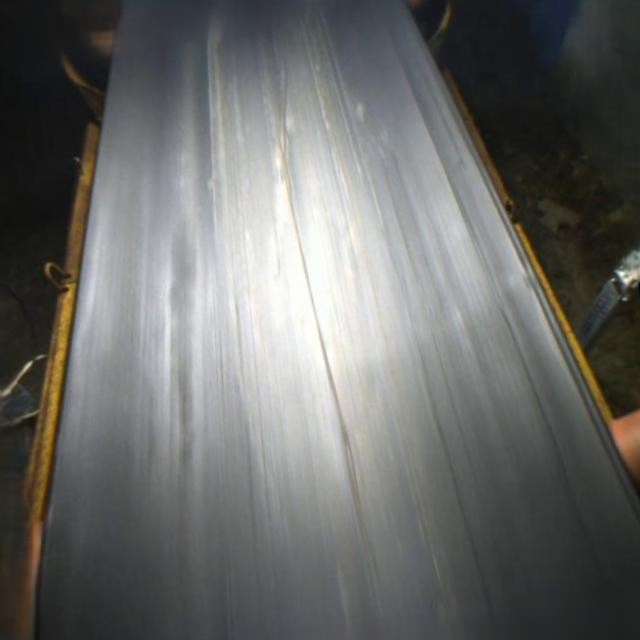Tear: (270, 108, 361, 504)
